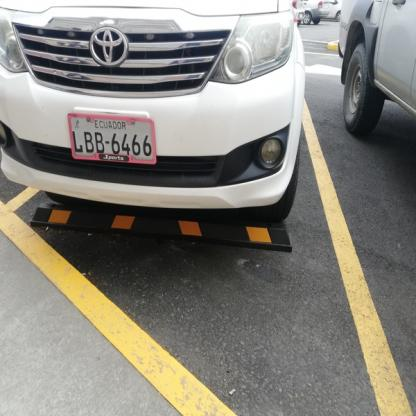Placa: (66, 113, 164, 167)
